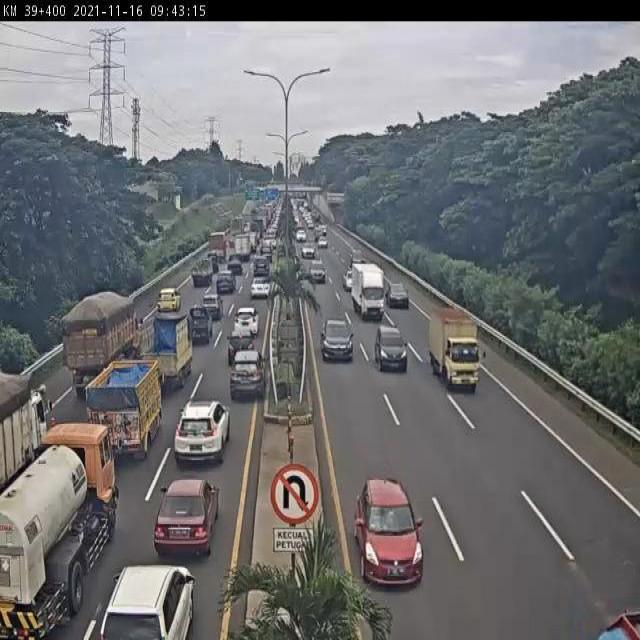car: (354, 476, 423, 592), (102, 562, 193, 640), (153, 477, 221, 556), (174, 396, 228, 460), (229, 348, 267, 400), (321, 317, 356, 364), (374, 324, 408, 372), (226, 327, 256, 364), (186, 306, 213, 342), (385, 280, 412, 311), (232, 306, 258, 338), (191, 256, 215, 285), (200, 292, 223, 320), (156, 288, 180, 313), (250, 276, 270, 301), (216, 272, 236, 293)
small truck: (428, 307, 481, 393)
truck-l-: (0, 418, 125, 640)
truck-m-: (57, 287, 145, 405), (82, 359, 165, 460), (138, 312, 192, 389), (352, 263, 385, 320)
